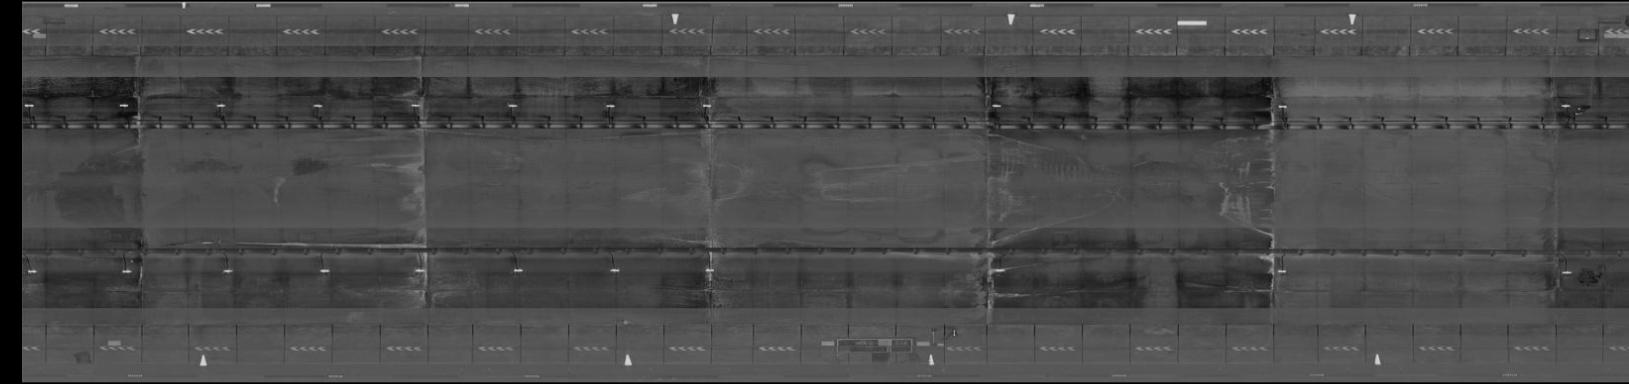light: (604, 264, 624, 277), (219, 265, 239, 278), (599, 97, 617, 111), (212, 99, 234, 110), (1272, 266, 1293, 277), (990, 265, 1014, 275), (405, 100, 426, 111), (697, 265, 720, 275), (118, 267, 140, 277), (309, 100, 329, 110), (115, 100, 134, 111), (410, 266, 430, 276), (1273, 101, 1290, 112), (1556, 99, 1574, 110), (1558, 268, 1576, 279), (25, 265, 41, 277), (503, 100, 522, 110), (508, 265, 526, 275), (698, 100, 716, 110), (990, 99, 1005, 111), (315, 267, 333, 275), (23, 99, 36, 110)
